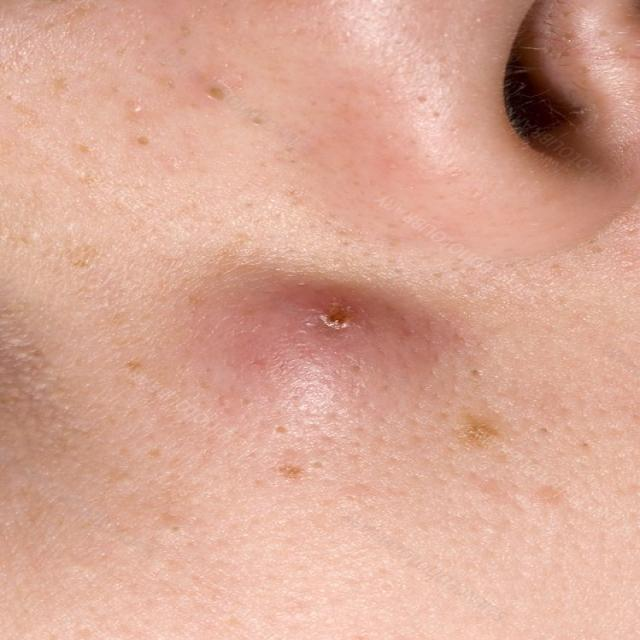nodule: (216, 269, 522, 461)
